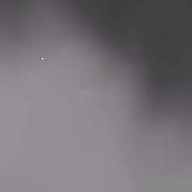Target: (40, 57, 45, 61)
